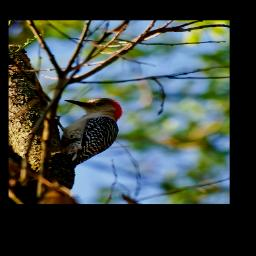Woodpecker: (47, 94, 139, 174)
